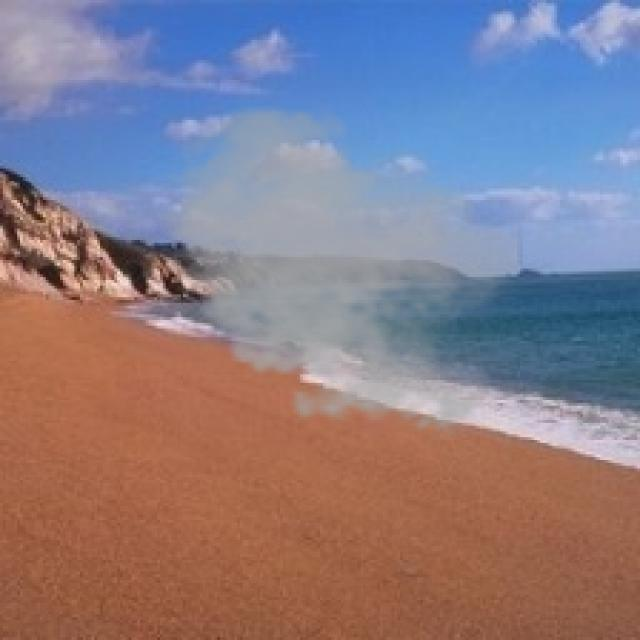Smoke: (148, 97, 523, 443)
